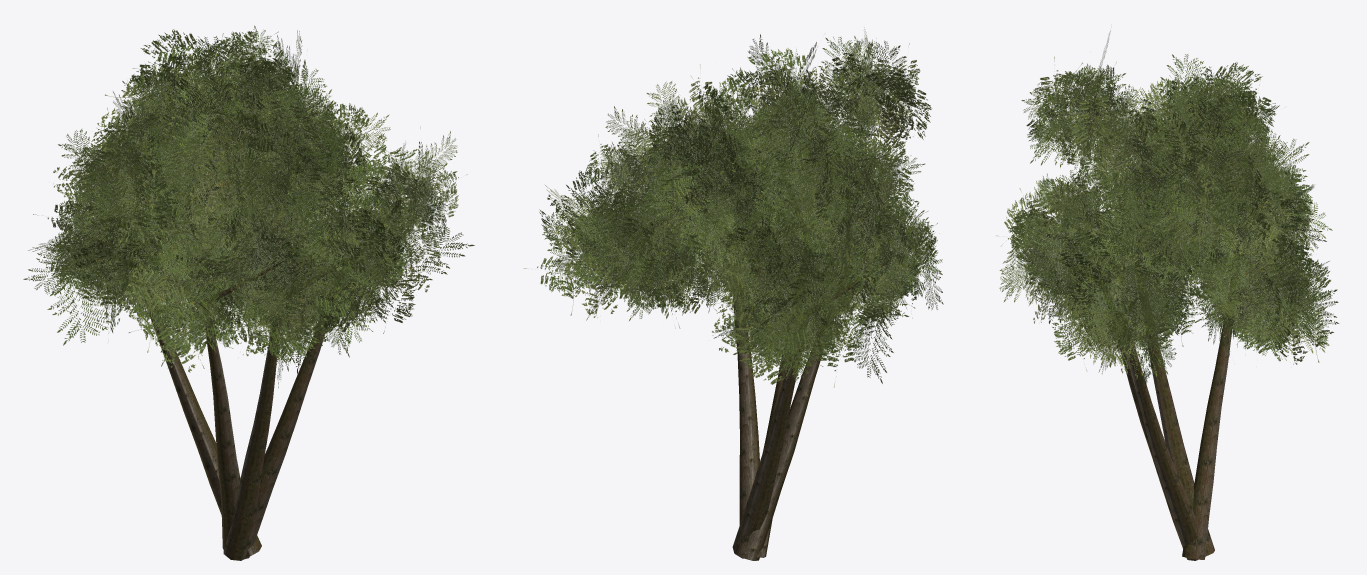
File: tamarisk_3.glb
3 views of the same model, side by side, from view 1: azimuth 30°, elevation 25°; view 2: azimuth 150°, elevation 25°; view 3: azimuth 270°, elevation 25° (orthographic). The views are drawn at different scales.
Visible parts, largest first — view 1: tamarisk; view 2: tamarisk; view 3: tamarisk.
Part boxes in pixels (bbox=[...]): tamarisk: bbox=[23, 25, 474, 560]; tamarisk: bbox=[523, 29, 943, 560]; tamarisk: bbox=[996, 31, 1339, 560].
Size of the model in its own units: 7.07 by 8.78 by 5.86.
Materials: 2 (2 with a texture image).
